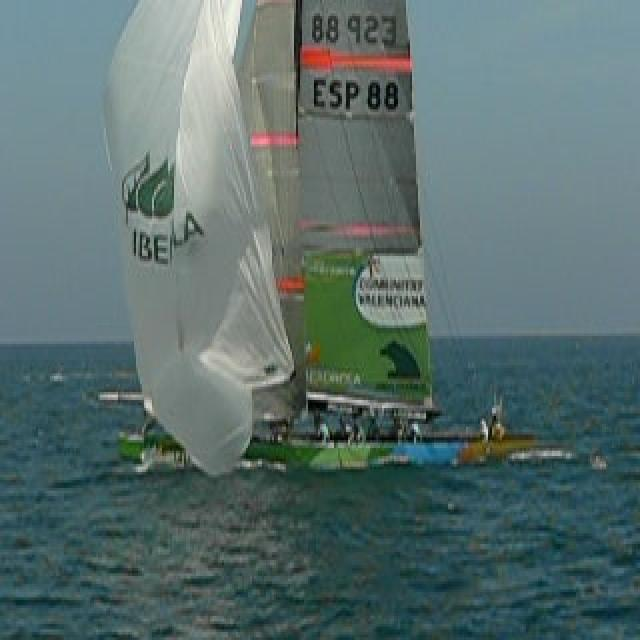boat: (105, 1, 575, 470)
